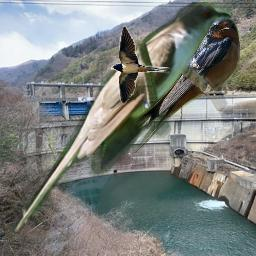Cuckoo: (11, 2, 231, 236)
Swallow: (133, 17, 240, 153), (111, 25, 170, 105)
